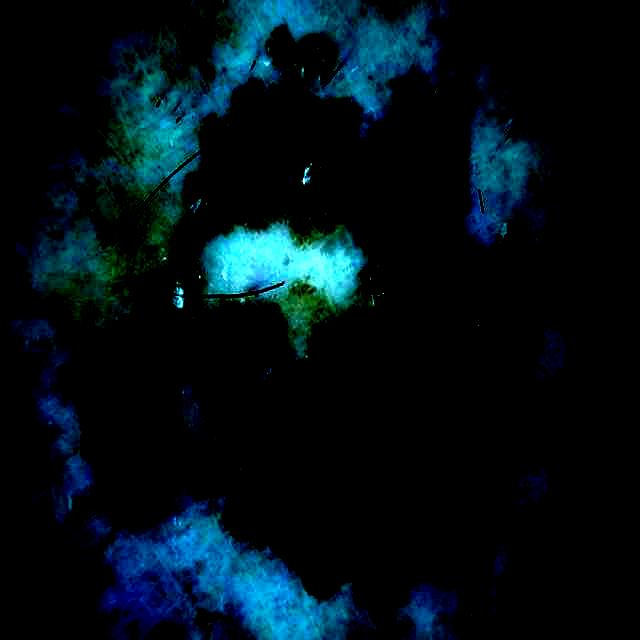BKL: (197, 27, 537, 602), (76, 323, 224, 524)
